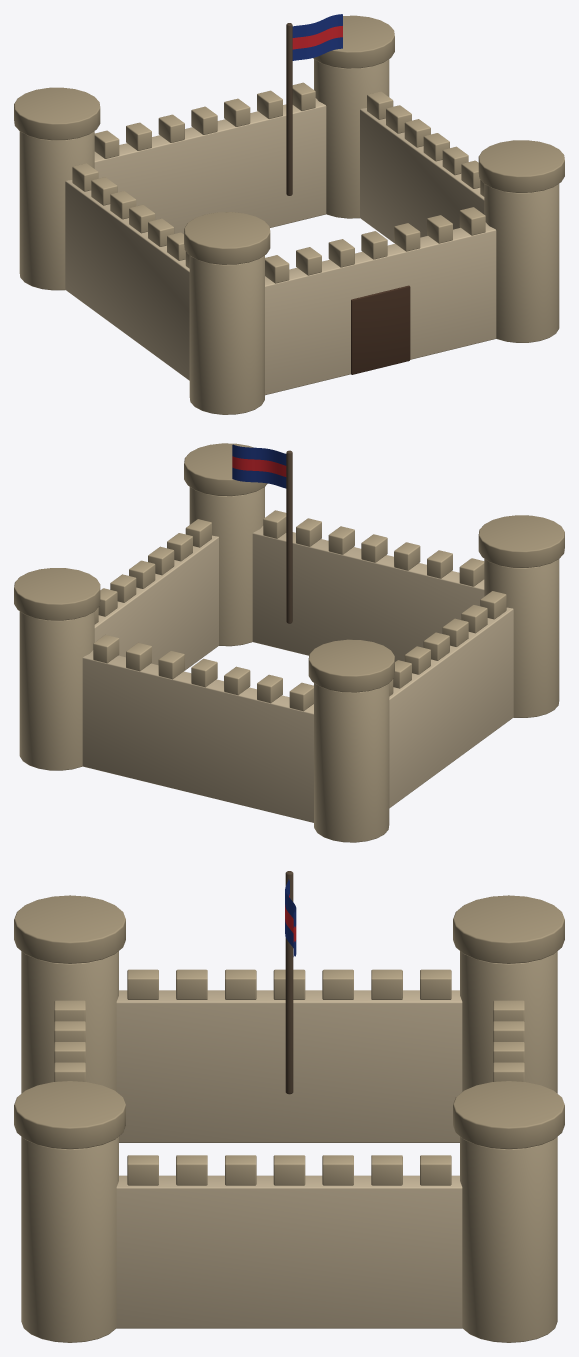
Rendered from forte_colonial.glb.
3 views of the same model, one above another, from view 1: azimuth 30°, elevation 25°; view 2: azimuth 150°, elevation 25°; view 3: azimuth 270°, elevation 25° (orthographic). The views are drawn at different scales.
Visible parts, largest first — view 1: forte_colonial; view 2: forte_colonial; view 3: forte_colonial.
Boxes of the visible parts, x1=… form: forte_colonial: x1=14, y1=14, x2=564, y2=414; forte_colonial: x1=14, y1=443, x2=564, y2=842; forte_colonial: x1=14, y1=871, x2=564, y2=1342.
Bounding box in the file's own units: 11.3 × 8.1 × 11.3.
